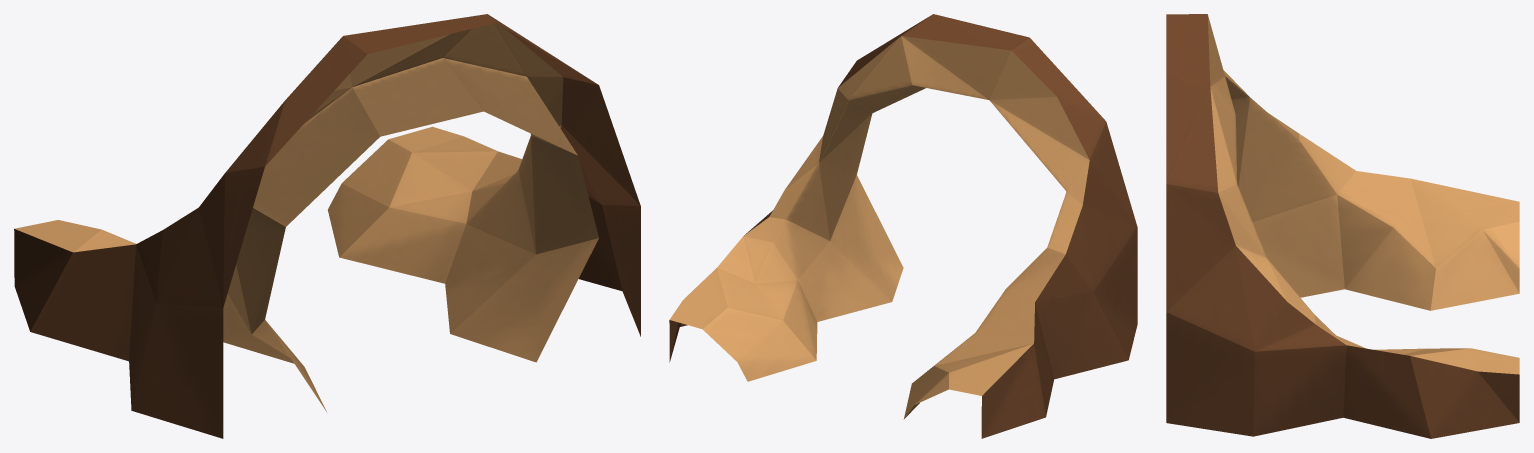
The model's file is TroncPerce_TrouB.FBX.
The picture shows the model from 3 angles, left to right: view 1: azimuth 30°, elevation 25°; view 2: azimuth 150°, elevation 25°; view 3: azimuth 270°, elevation 25°; orthographic projection. The views are drawn at different scales.
Visible parts, largest first — view 1: TroncPerce_TrouB; view 2: TroncPerce_TrouB; view 3: TroncPerce_TrouB.
Boxes of the visible parts, <box> form: TroncPerce_TrouB: <box>14,14,640,438</box>; TroncPerce_TrouB: <box>669,14,1137,438</box>; TroncPerce_TrouB: <box>1166,14,1519,438</box>.
Size of the model in its own units: 2.38 by 1.6 by 1.73.
